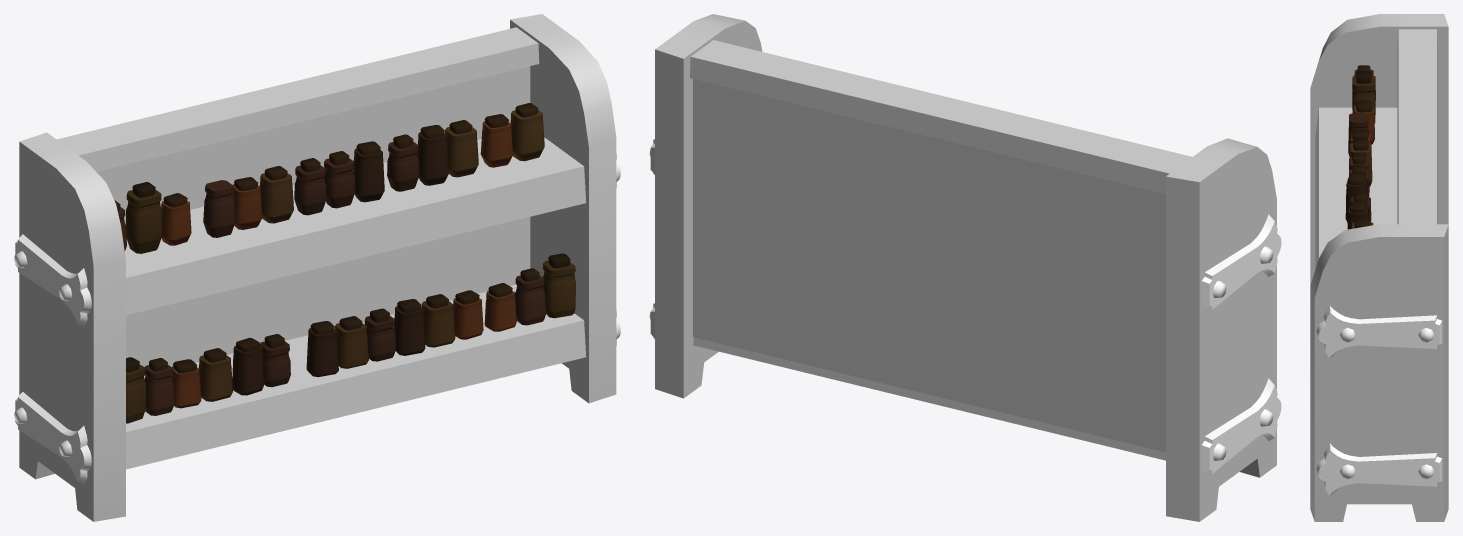
The model's file is extra_vial_display_shelf.glb.
3 renders of one model, left to right at view 1: azimuth 30°, elevation 25°; view 2: azimuth 150°, elevation 25°; view 3: azimuth 270°, elevation 25°, orthographic. The views are drawn at different scales.
Visible parts, largest first — view 1: Cube166_2, Cube166, Cube166_1; view 2: Cube166_2, Cube166_1; view 3: Cube166_2, Cube166_1, Cube166.
Part boxes in pixels (bbox=[...]): Cube166_2: bbox=[19, 14, 616, 521]; Cube166: bbox=[114, 103, 575, 423]; Cube166_1: bbox=[14, 152, 620, 485]; Cube166_2: bbox=[655, 14, 1276, 521]; Cube166_1: bbox=[649, 139, 1281, 476]; Cube166_2: bbox=[1310, 14, 1448, 521]; Cube166_1: bbox=[1316, 306, 1442, 495]; Cube166: bbox=[1345, 65, 1375, 229].
Bounding box in the file's own units: 1.14 × 0.6474 × 0.2846.
